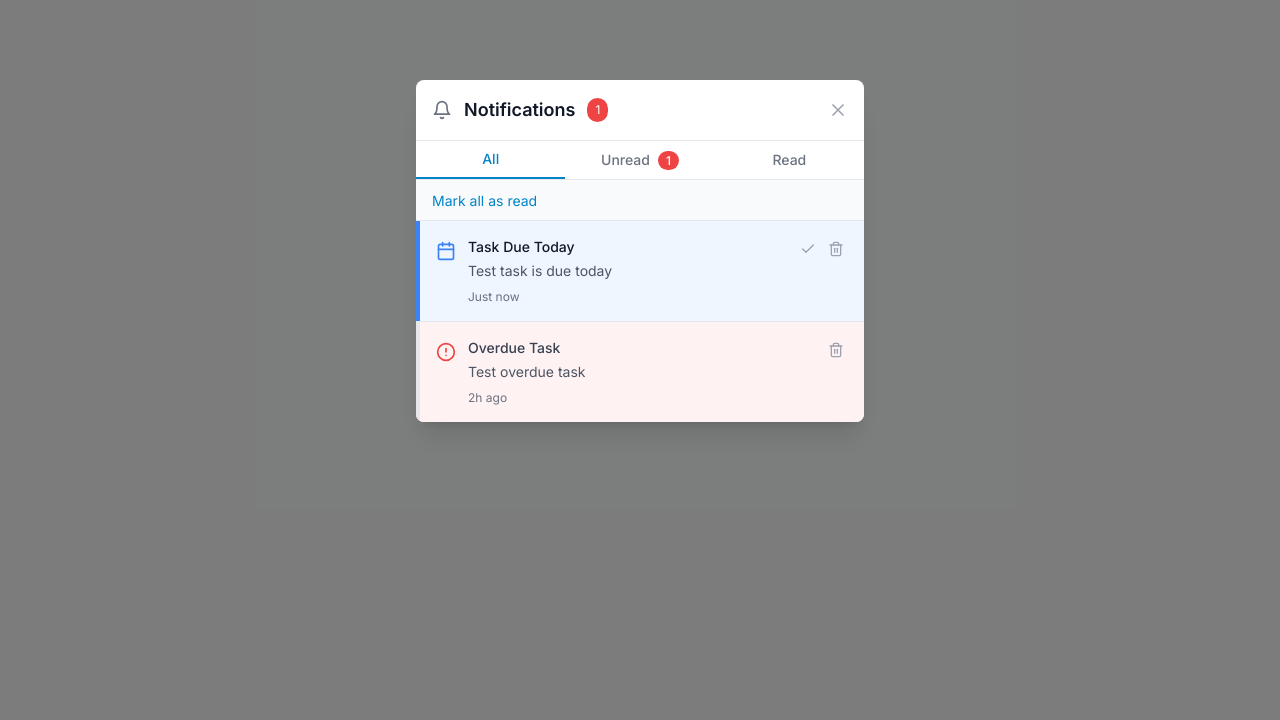
Scenario: NotificationPanel › filters notifications by read when read tab is selected
Click the button "read" at {"x": 789, "y": 160}, box top-left (715, 141), bottom-right (864, 179)
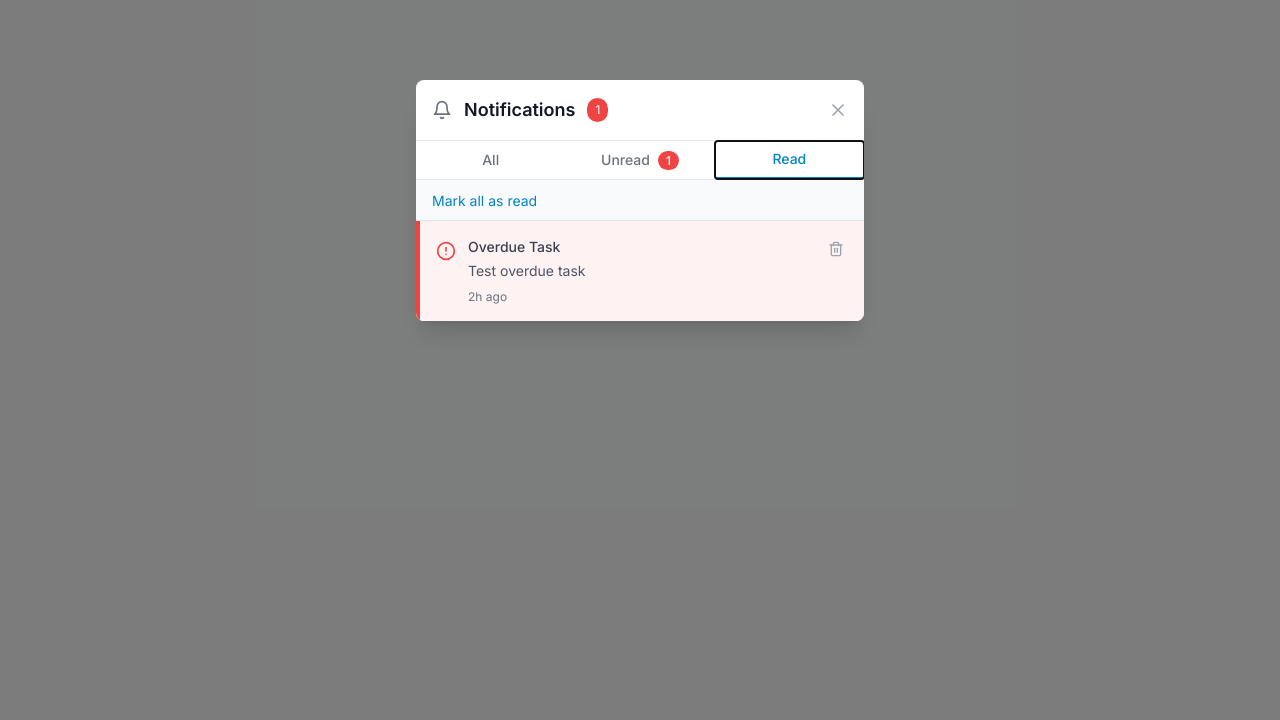
Expected: the text "Overdue Task" is shown, top-left (468, 238), bottom-right (560, 255)
Now the text "Task Due Today" is gone
